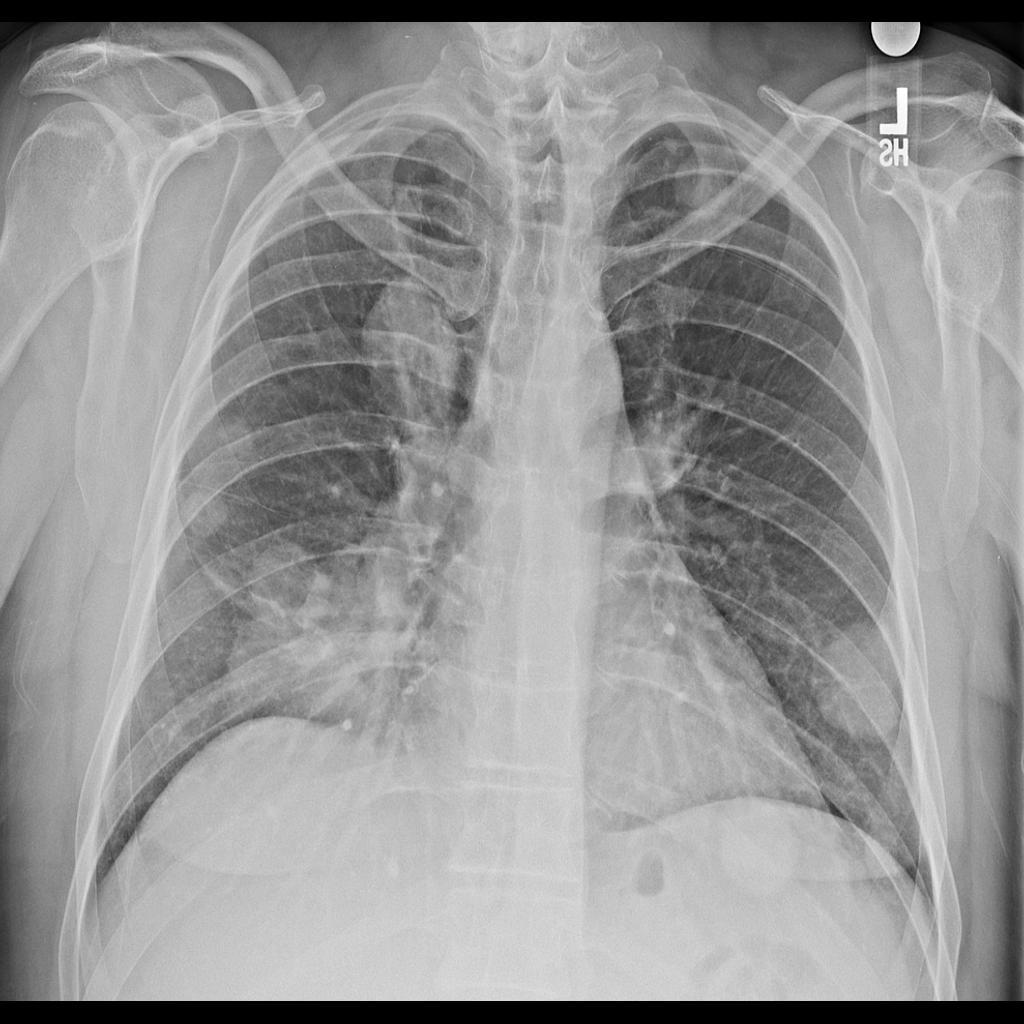Nodule: (365, 273, 467, 429), (813, 632, 916, 752), (182, 492, 232, 540)
